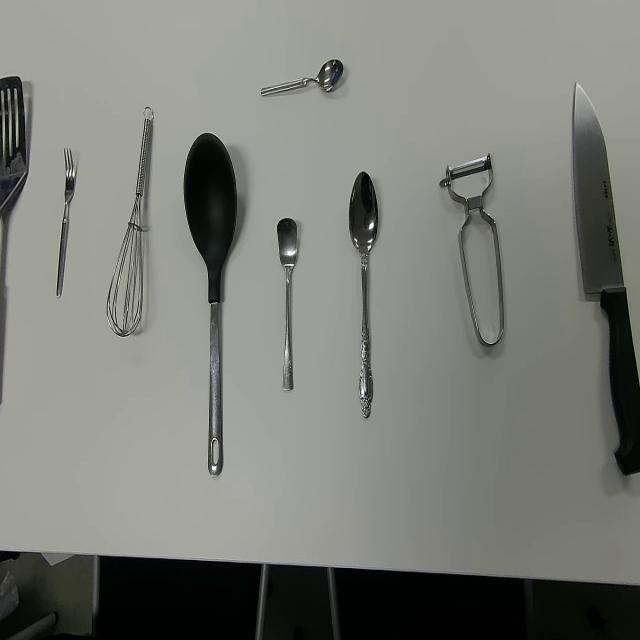Desert-Spoon: (348, 170, 379, 420)
Dinner-Fork: (56, 146, 76, 299)
Kitchen-Knife: (571, 81, 640, 478)
Peeler: (438, 149, 504, 348)
Serving-Spoon: (183, 130, 238, 480), (0, 73, 27, 414)
Tea-Spoon: (277, 215, 299, 393), (260, 57, 344, 98)
Whisk: (105, 105, 154, 338)
